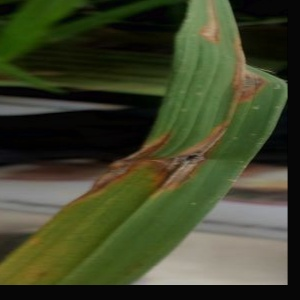Brown_Spot: (84, 114, 179, 191), (161, 112, 240, 199), (225, 36, 288, 110), (192, 0, 229, 43)
